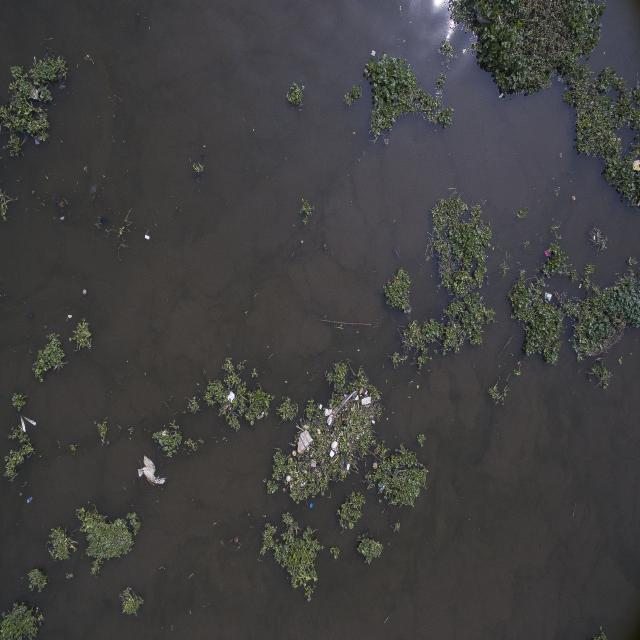debris: (138, 456, 164, 485), (19, 414, 36, 432), (334, 394, 350, 411), (297, 433, 312, 451), (631, 155, 640, 177), (28, 85, 40, 100), (392, 246, 401, 259), (26, 494, 34, 505), (362, 397, 372, 405), (310, 458, 318, 467), (369, 46, 376, 56), (128, 426, 136, 434), (324, 408, 332, 416), (544, 292, 552, 300), (331, 440, 338, 449), (327, 416, 333, 426), (328, 450, 335, 458), (592, 231, 596, 244), (82, 288, 89, 295), (145, 233, 151, 241), (162, 429, 168, 437), (544, 250, 550, 258), (536, 196, 542, 204), (372, 461, 378, 468), (59, 216, 65, 222), (578, 281, 582, 290), (317, 428, 321, 436), (85, 55, 91, 60), (286, 476, 291, 482), (300, 482, 306, 487), (354, 395, 359, 401), (338, 430, 343, 436), (68, 314, 73, 319), (291, 451, 296, 456), (370, 418, 375, 423), (101, 438, 105, 444), (364, 389, 368, 395), (362, 429, 366, 435), (319, 405, 323, 410), (344, 426, 346, 432), (356, 436, 360, 439), (386, 416, 388, 421), (350, 419, 352, 423)
plastic: (33, 133, 40, 146), (89, 182, 97, 193), (44, 40, 50, 54), (497, 90, 506, 99), (58, 82, 66, 91), (99, 216, 108, 224), (37, 619, 44, 627), (233, 536, 241, 543), (484, 274, 491, 282), (28, 313, 35, 320), (53, 364, 60, 371), (9, 150, 15, 157), (145, 227, 151, 234), (406, 292, 412, 298), (380, 484, 385, 491), (558, 152, 563, 159), (346, 464, 350, 472), (91, 196, 96, 202), (301, 469, 308, 473), (249, 525, 254, 530), (106, 440, 110, 446), (309, 502, 313, 508)
